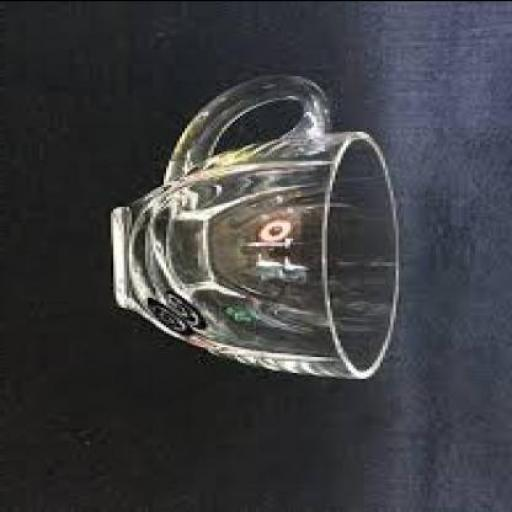glass: (113, 71, 401, 378)
